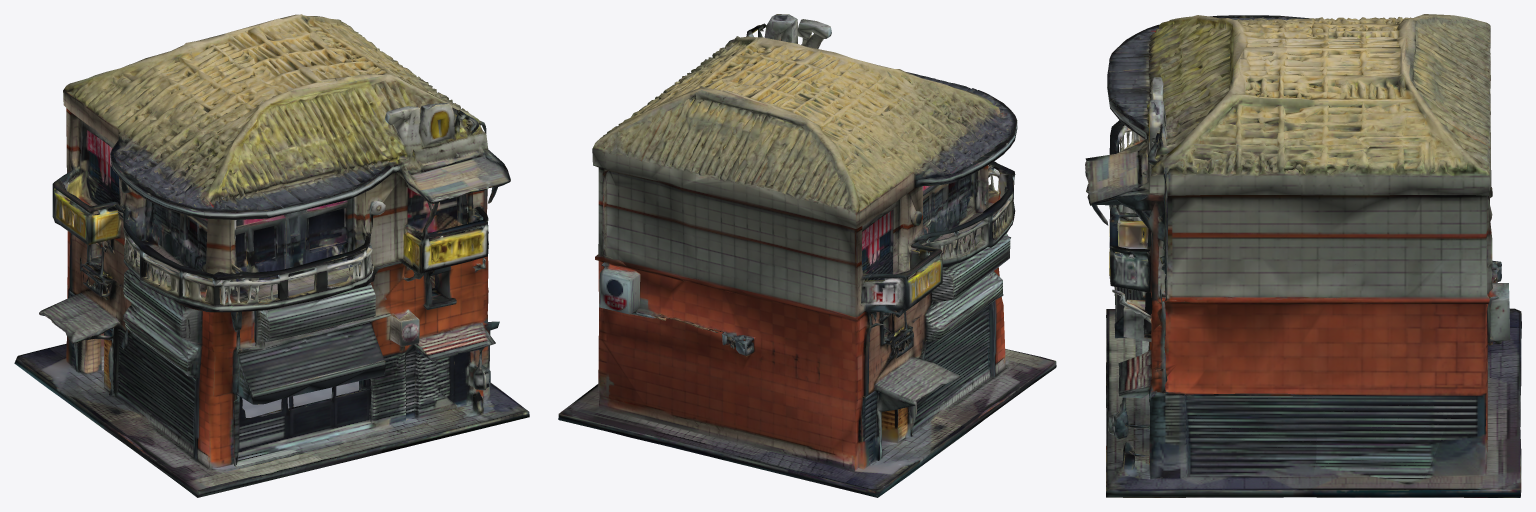
The model's file is ximen_corner_shophouse_01.glb.
The picture shows the model from 3 angles, left to right: view 1: azimuth 30°, elevation 25°; view 2: azimuth 150°, elevation 25°; view 3: azimuth 270°, elevation 25°; orthographic projection. The views are drawn at different scales.
Bounding box in the file's own units: 2 × 1.84 × 1.95.
1 material, 1 textured.
